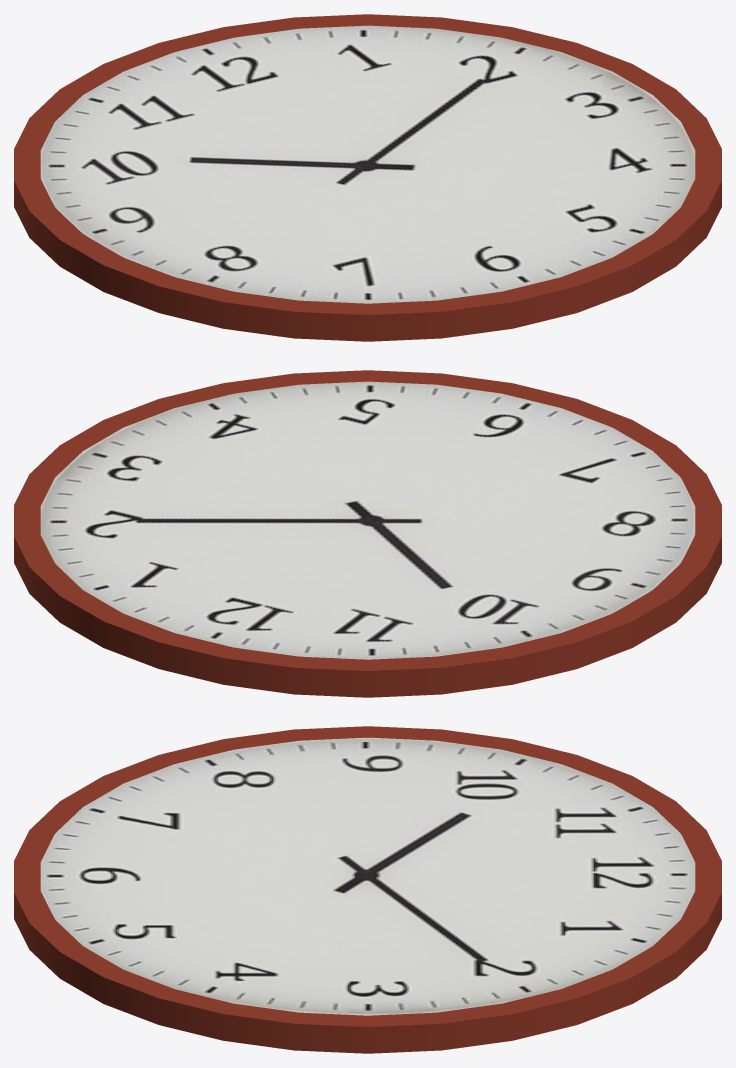
File: clock3.FBX
The picture shows the model from 3 angles, top to bottom: view 1: azimuth 30°, elevation 25°; view 2: azimuth 150°, elevation 25°; view 3: azimuth 270°, elevation 25°; orthographic projection.
Parts seen in each view (by area): view 1: clock3; view 2: clock3; view 3: clock3.
Boxes of the visible parts, left/top/right/bottom form: clock3: left=14, top=14, right=721, bottom=341; clock3: left=14, top=370, right=721, bottom=697; clock3: left=14, top=726, right=721, bottom=1053.
Size of the model in its own units: 3.5 by 0.145 by 3.48.
